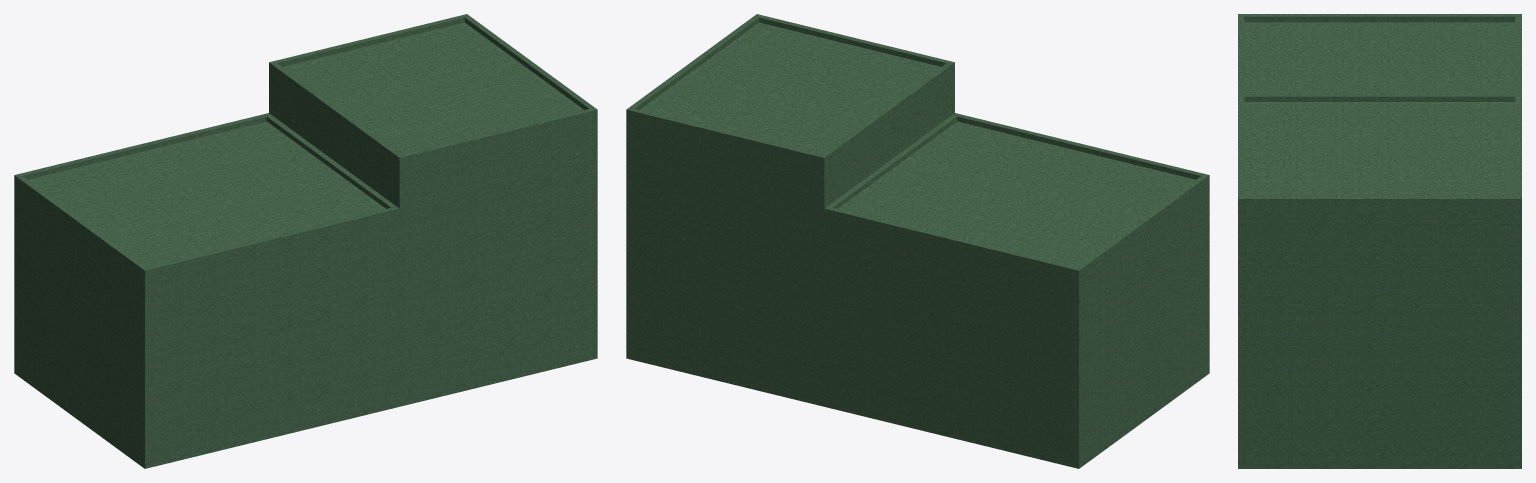
Rendered from Factory.fbx.
The picture shows the model from 3 angles, left to right: view 1: azimuth 30°, elevation 25°; view 2: azimuth 150°, elevation 25°; view 3: azimuth 270°, elevation 25°; orthographic projection. The views are drawn at different scales.
Visible parts, largest first — view 1: Factory; view 2: Factory; view 3: Factory.
Boxes of the visible parts, x1,y1,x2,y2 form: Factory: [14, 14, 597, 468]; Factory: [626, 14, 1209, 468]; Factory: [1238, 14, 1521, 468].
Size of the model in its own units: 32 by 16 by 16.8.
